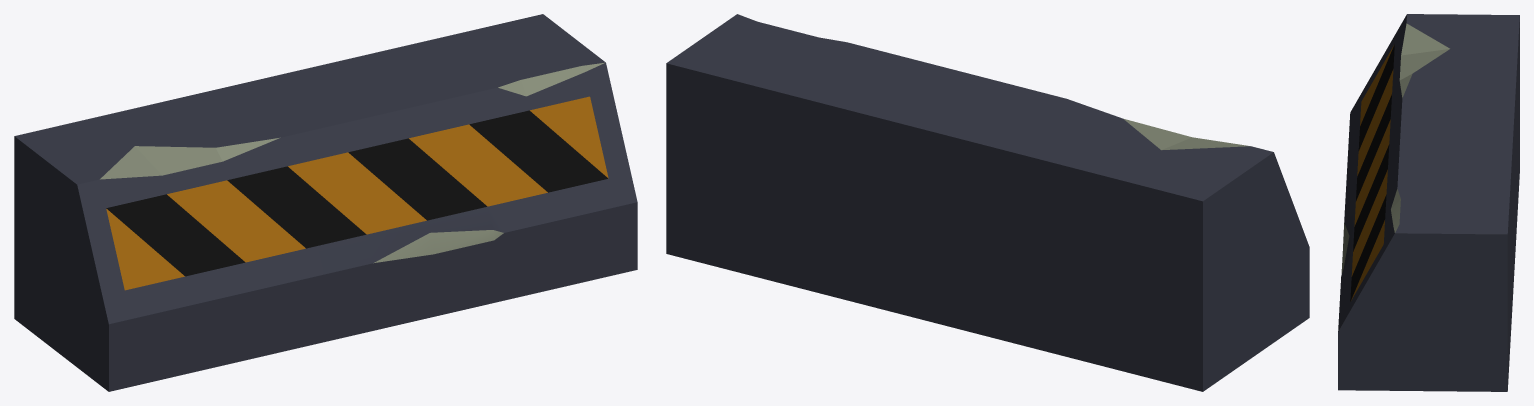
The model's file is Quaternius_BarrierSingle.obj.
3 renders of one model, left to right at view 1: azimuth 30°, elevation 25°; view 2: azimuth 150°, elevation 25°; view 3: azimuth 270°, elevation 25°, orthographic. The views are drawn at different scales.
Parts seen in each view (by area): view 1: part0, part2, part1, part3; view 2: part0, part3; view 3: part0, part2, part1, part3.
Boxes of the visible parts, x1,y1,x2,y2 form: part0: (14, 14, 637, 391); part2: (106, 96, 608, 290); part1: (106, 110, 608, 276); part3: (100, 62, 604, 263); part0: (666, 14, 1309, 391); part3: (1123, 118, 1250, 150); part0: (1338, 14, 1519, 391); part2: (1351, 45, 1393, 300); part1: (1350, 44, 1394, 301); part3: (1341, 23, 1449, 274).
Bounding box in the file's own units: 1.89 × 0.6281 × 0.6569.
